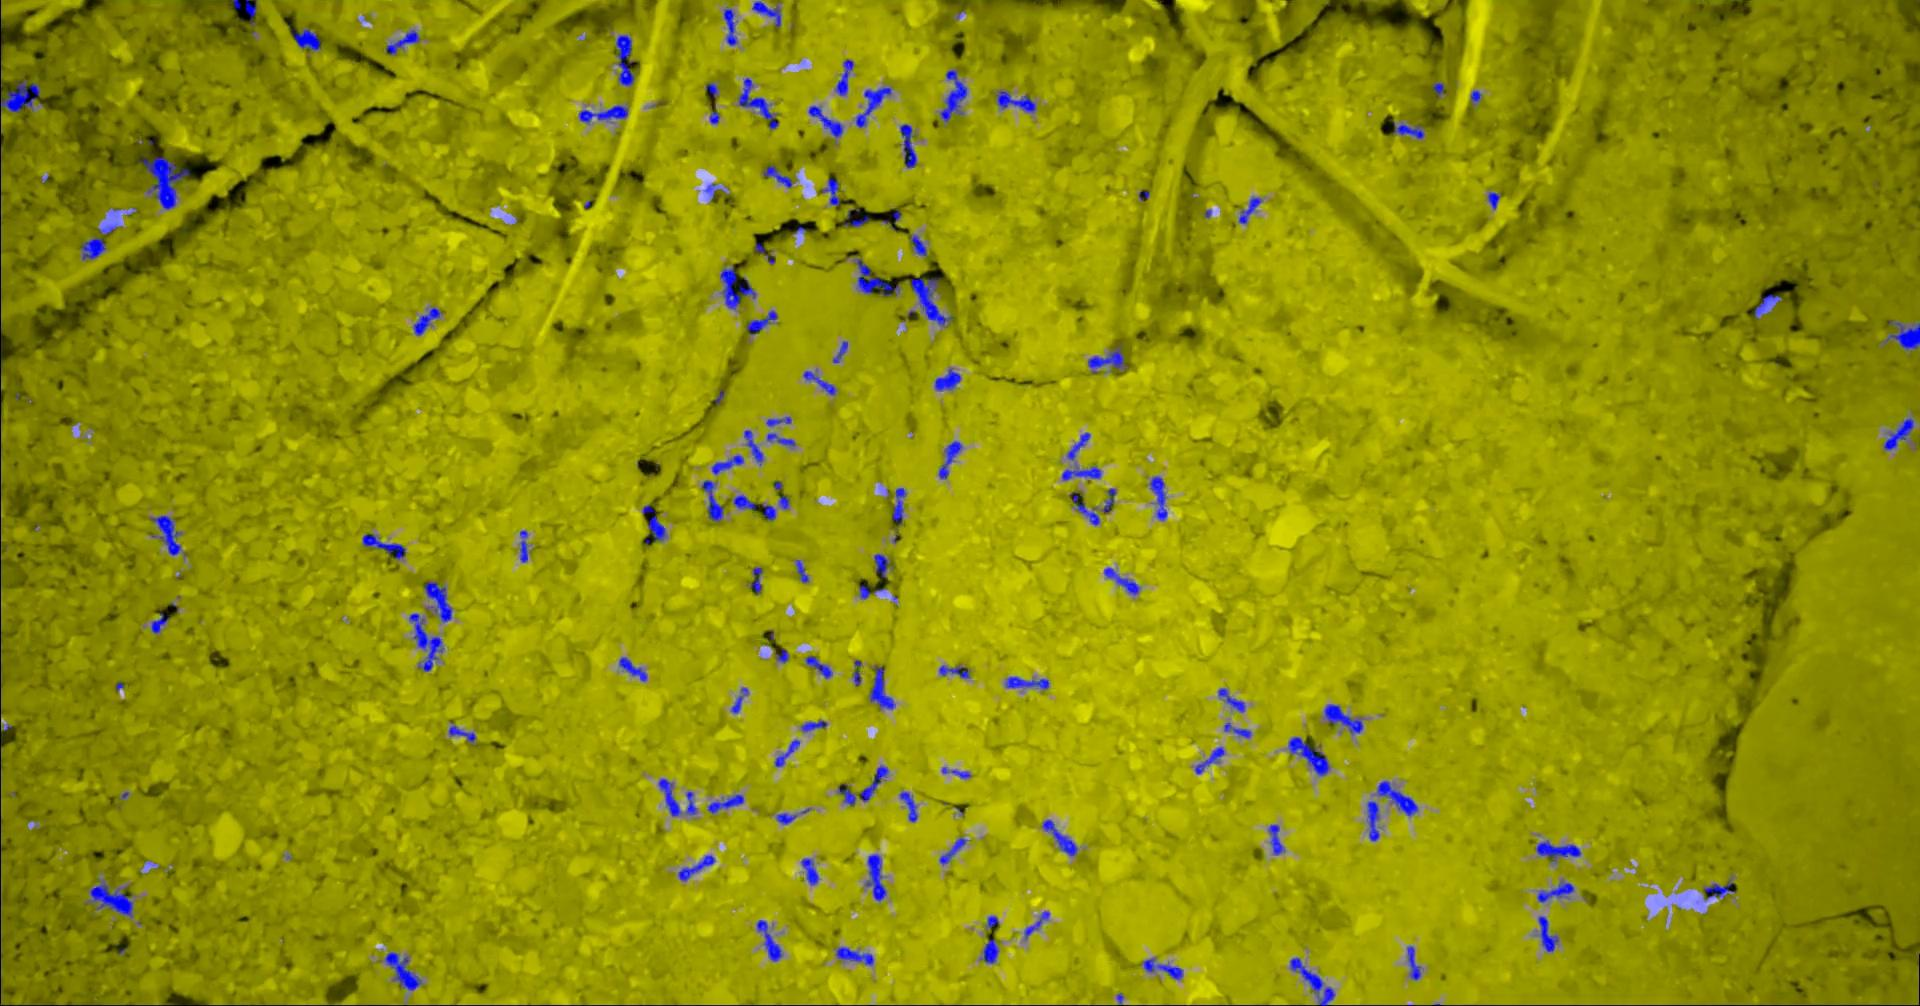ant: (1291, 956, 1336, 1005), (740, 77, 780, 130), (912, 277, 954, 325), (410, 614, 444, 671), (1290, 735, 1331, 775), (858, 258, 902, 295), (721, 265, 757, 309), (91, 882, 135, 916), (857, 86, 893, 127), (1378, 780, 1418, 815), (660, 779, 698, 815), (386, 951, 423, 989), (941, 69, 968, 121), (1, 79, 41, 112), (1043, 819, 1078, 855), (152, 514, 183, 555), (425, 580, 453, 622), (1090, 343, 1128, 373), (1326, 702, 1364, 733), (364, 533, 408, 559), (871, 666, 897, 709), (810, 105, 844, 137), (861, 765, 890, 801), (758, 920, 783, 962), (1886, 319, 1920, 349), (617, 34, 637, 85), (1105, 567, 1142, 594), (866, 854, 888, 901), (1072, 492, 1101, 525), (1538, 840, 1582, 861), (1884, 418, 1915, 448), (940, 439, 964, 478), (681, 855, 716, 880), (580, 105, 630, 123), (703, 479, 725, 520), (387, 29, 422, 55), (644, 504, 667, 542), (998, 90, 1037, 112), (1144, 958, 1183, 979), (804, 370, 838, 394), (1196, 746, 1225, 774), (415, 307, 443, 335), (753, 0, 782, 27), (1150, 476, 1168, 520), (1539, 882, 1576, 902), (1539, 915, 1559, 951), (941, 837, 969, 864), (748, 310, 778, 334), (837, 946, 875, 965), (902, 123, 918, 166), (836, 58, 855, 95), (709, 794, 745, 813), (776, 739, 801, 766), (1026, 911, 1051, 937), (1755, 293, 1783, 318), (712, 453, 745, 474), (745, 431, 764, 465), (1239, 197, 1263, 224), (1068, 432, 1092, 459), (620, 657, 648, 680), (1219, 688, 1247, 711), (293, 28, 323, 50), (1705, 879, 1735, 901), (234, 0, 258, 25), (808, 655, 834, 678), (764, 165, 792, 187), (936, 368, 963, 390), (1063, 466, 1103, 480), (450, 721, 477, 742), (1007, 676, 1051, 688), (1394, 121, 1425, 138), (1368, 801, 1382, 840), (83, 238, 107, 259), (902, 791, 919, 821), (823, 178, 841, 206), (803, 857, 820, 885), (725, 6, 738, 44), (894, 486, 907, 525), (1270, 824, 1286, 854), (844, 208, 870, 226), (731, 687, 749, 713), (982, 937, 999, 963), (1410, 945, 1422, 979), (1225, 721, 1253, 737), (768, 432, 796, 446), (152, 612, 171, 633), (841, 782, 857, 805), (750, 567, 764, 593), (861, 584, 888, 598), (875, 553, 890, 577), (883, 210, 902, 229), (940, 666, 971, 677), (910, 235, 928, 255), (735, 494, 758, 509), (1103, 488, 1117, 512), (834, 340, 850, 362), (943, 767, 971, 779), (797, 559, 810, 582), (521, 530, 530, 561), (803, 720, 828, 730), (778, 812, 797, 824), (763, 503, 777, 520), (855, 659, 863, 685), (1490, 191, 1501, 210), (768, 417, 792, 426), (1434, 83, 1446, 97), (777, 648, 790, 662), (988, 915, 1001, 929), (707, 83, 719, 97), (711, 111, 721, 124), (781, 495, 791, 508)
